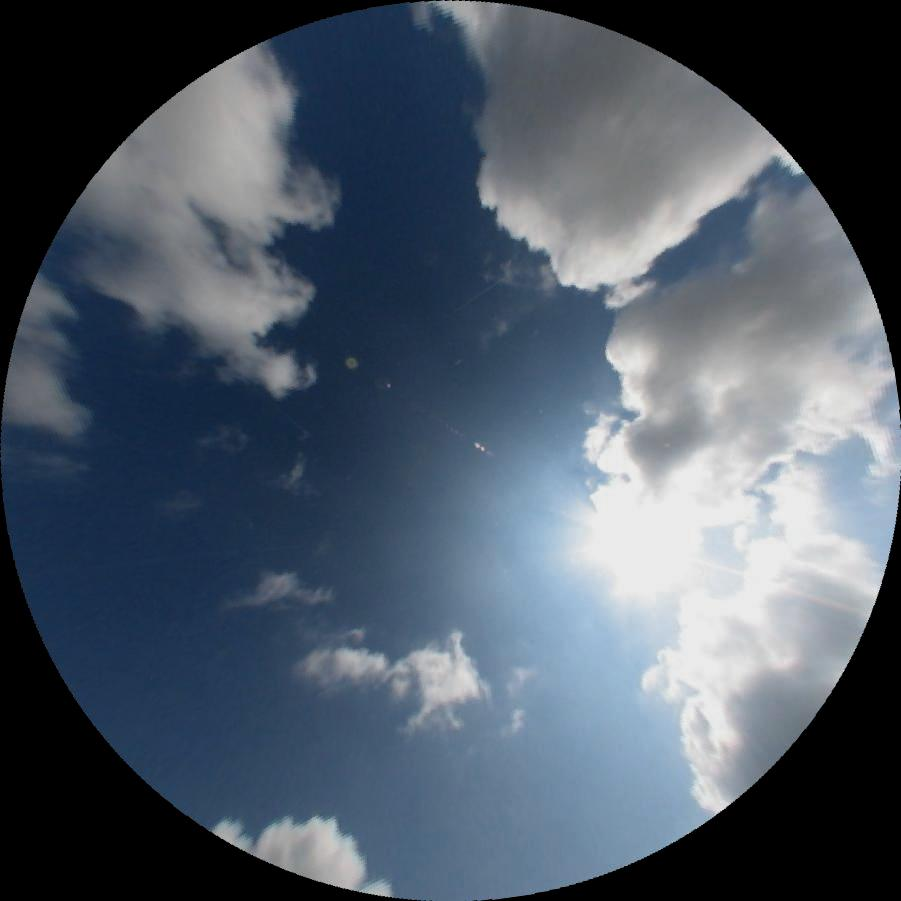contrail young: (451, 279, 500, 314), (279, 409, 312, 438)
parasite: (691, 553, 869, 619)
sun: (587, 477, 708, 596)
